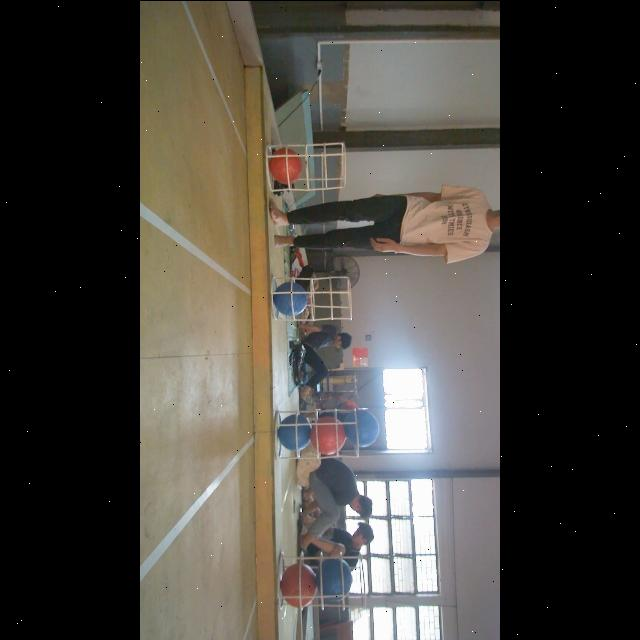B: (344, 407, 381, 449), (317, 558, 353, 600), (273, 415, 311, 449), (273, 281, 309, 315)
R: (282, 562, 316, 608), (312, 418, 346, 454), (272, 147, 302, 185)
